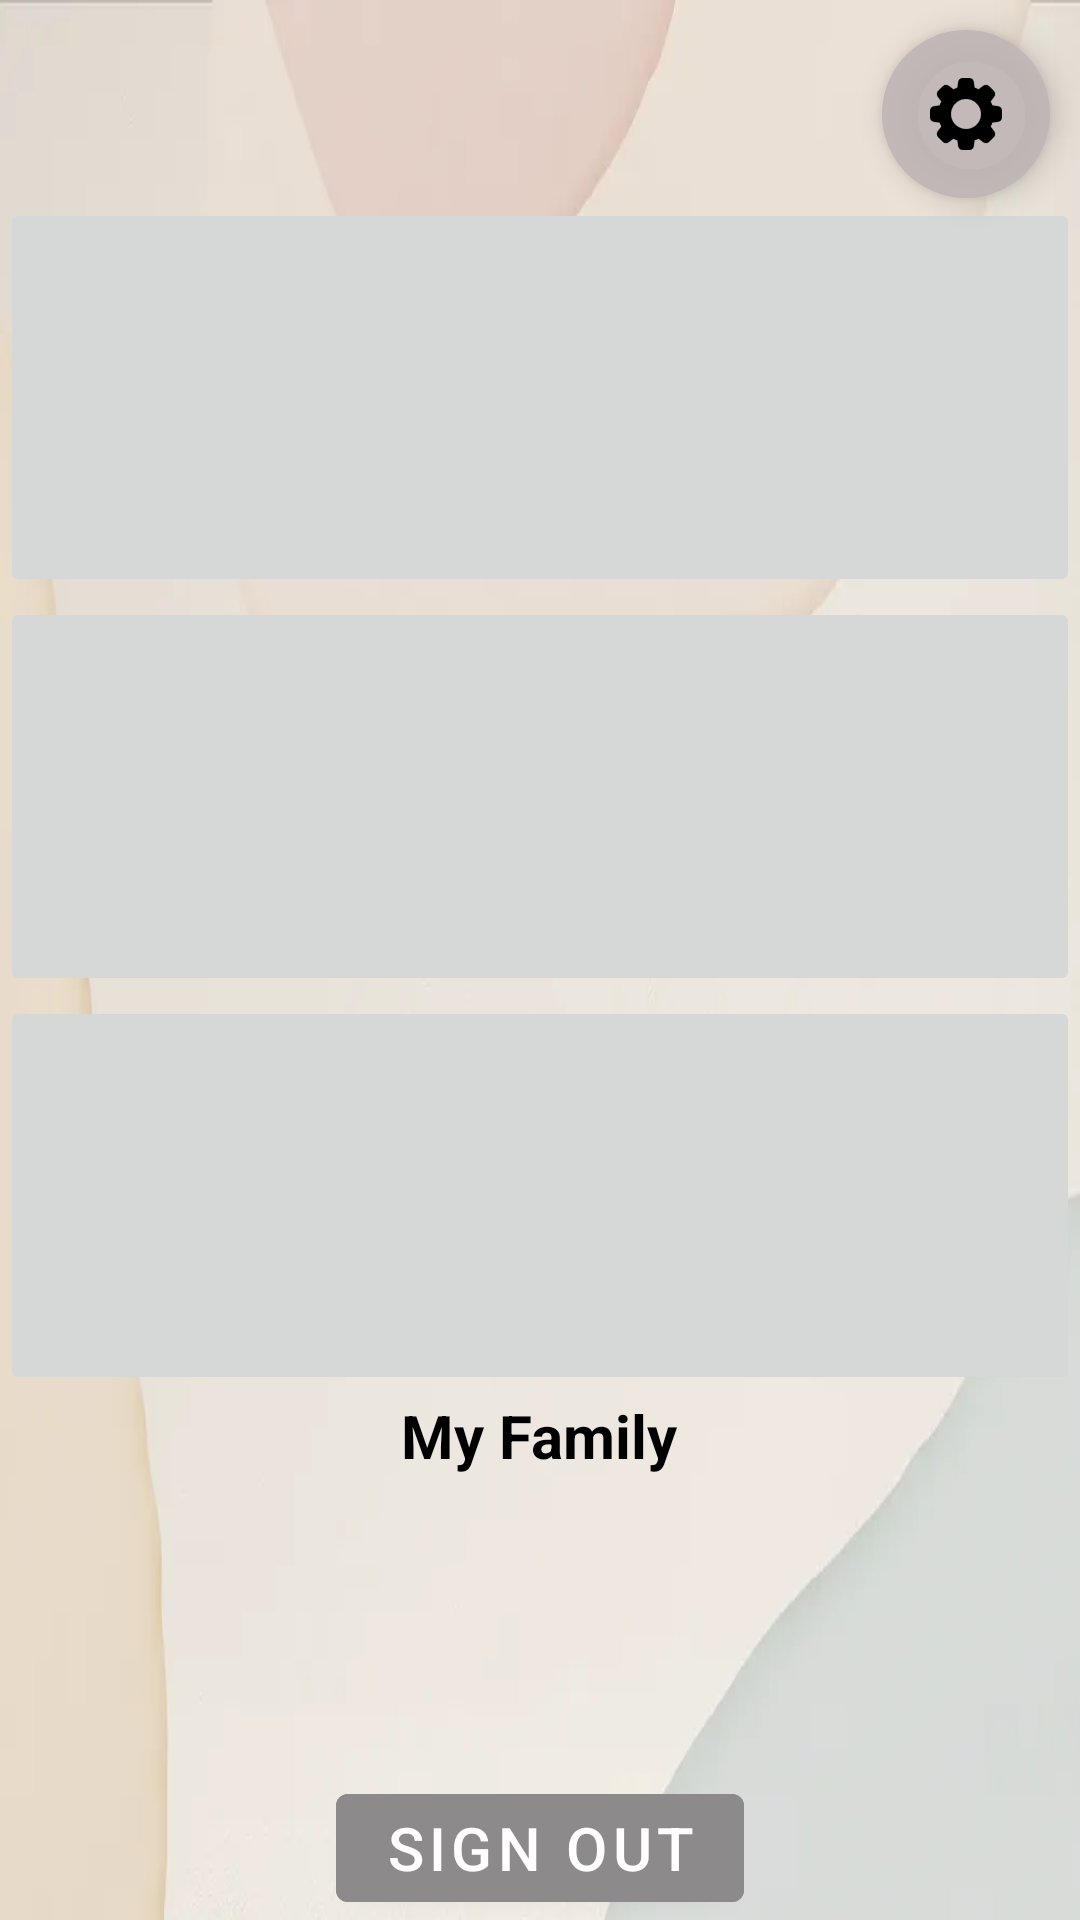

Icon click points for this 1080px×1920px phone screenshot, format [x,y]:
settings: [966,114]
